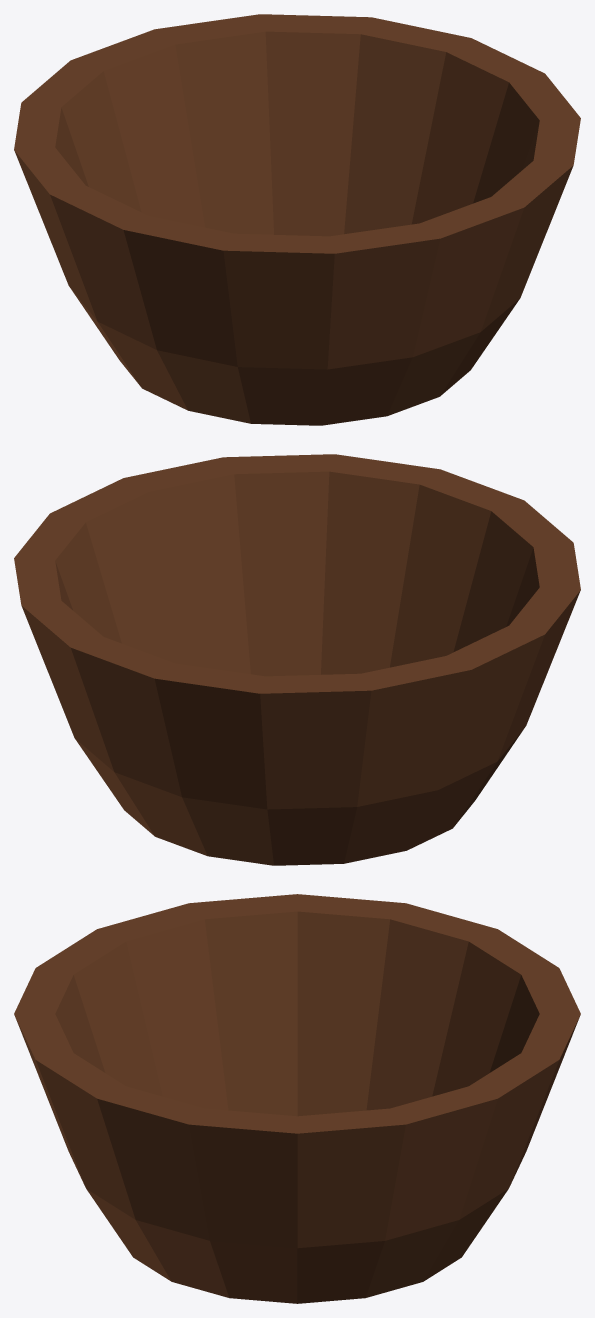
The model's file is tablebowl01.obj.
3 views of the same model, one above another, from view 1: azimuth 30°, elevation 25°; view 2: azimuth 150°, elevation 25°; view 3: azimuth 270°, elevation 25° (orthographic).
Parts seen in each view (by area): view 1: Cylinder.001_Cylinder; view 2: Cylinder.001_Cylinder; view 3: Cylinder.001_Cylinder.
Boxes of the visible parts, x1,y1,x2,y2 form: Cylinder.001_Cylinder: [14, 14, 580, 425]; Cylinder.001_Cylinder: [14, 454, 580, 865]; Cylinder.001_Cylinder: [14, 894, 580, 1303].
Size of the model in its own units: 0.1462 by 0.0611 by 0.1462.
